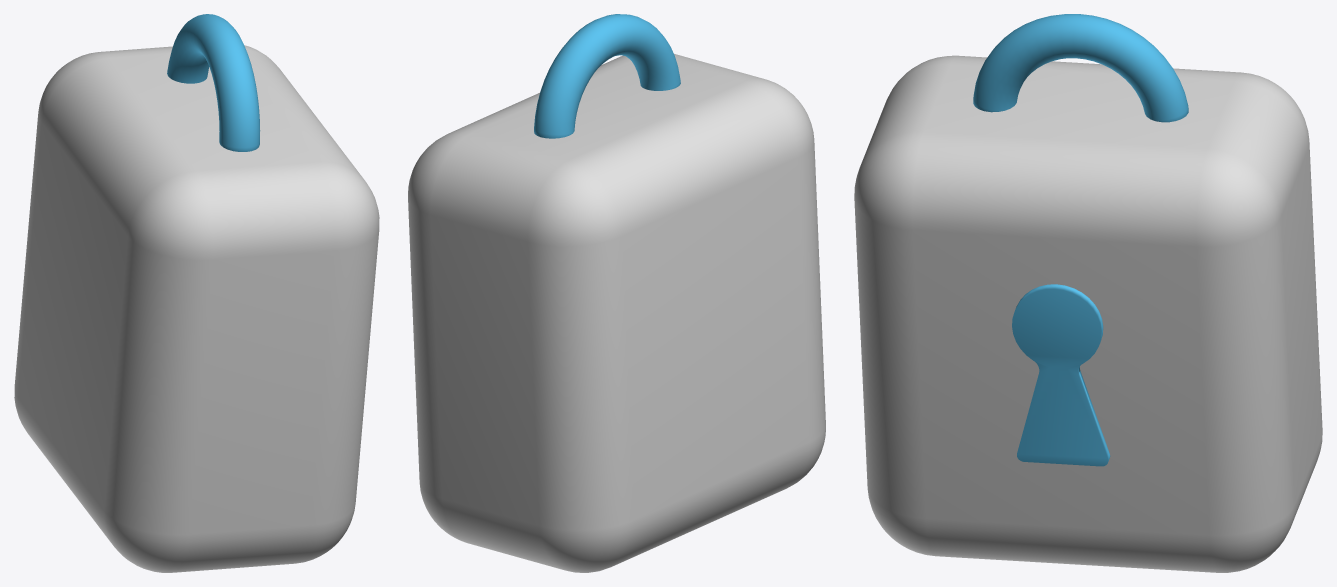
Rendered from cyber-security.glb.
3 views of the same model, side by side, from view 1: azimuth 30°, elevation 25°; view 2: azimuth 150°, elevation 25°; view 3: azimuth 270°, elevation 25° (orthographic). The views are drawn at different scales.
Parts seen in each view (by area): view 1: lock/glass, lock-handle/color; view 2: lock/glass, lock-handle/color; view 3: lock/glass, lock-hole/color, lock-handle/color.
Boxes of the visible parts, x1,y1,x2,y2 form: lock/glass: (14,45,379,572); lock-handle/color: (167,14,260,151); lock/glass: (408,54,825,572); lock-handle/color: (534,14,680,138); lock/glass: (854,55,1322,572); lock-hole/color: (1012,284,1110,466); lock-handle/color: (973,14,1188,122).
Bounding box in the file's own units: 1.48 × 2.41 × 1.93.
